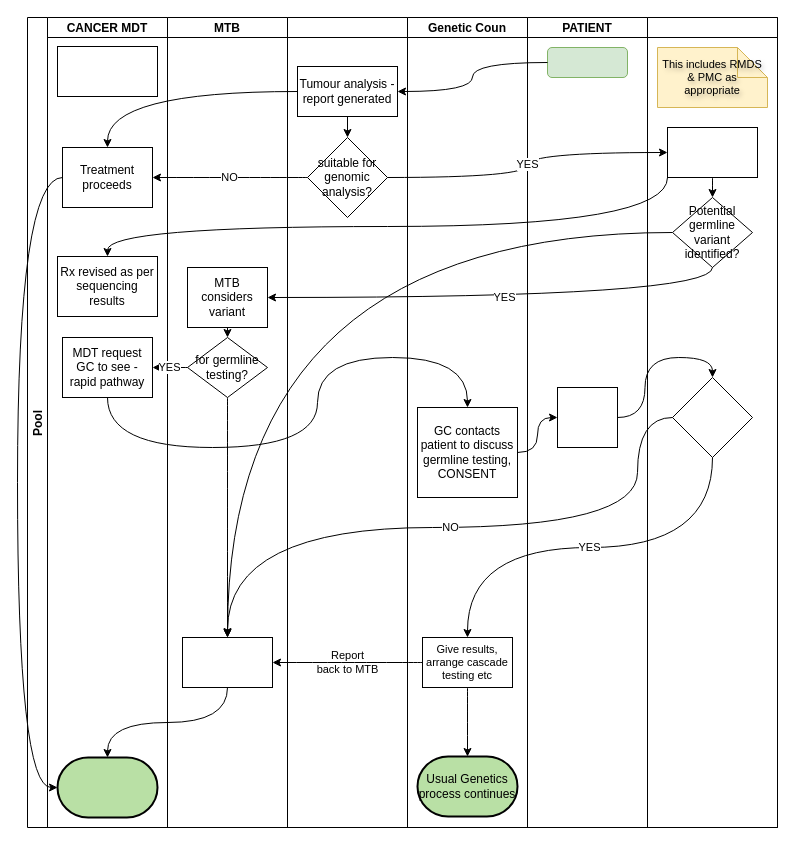
This 795x845 diagram has some shape labels left out. The box of each missing label's shape, as (x1, y1, x2, y2) in pixels:
GENETICS LAB: (646, 16, 778, 828)
PATH LAB: (286, 16, 408, 828)
PATIENT REGISTERED: (56, 46, 158, 96)
Patient sample taken: (556, 386, 618, 448)
Process ends: (56, 756, 158, 818)
RESULTS REVIEWED: (182, 636, 272, 688)
Testing in lab - variant found in germline?: (672, 376, 752, 458)
TUMOUR BIOPSIED: (546, 46, 628, 78)
Tumour sequencing: (666, 126, 758, 178)
